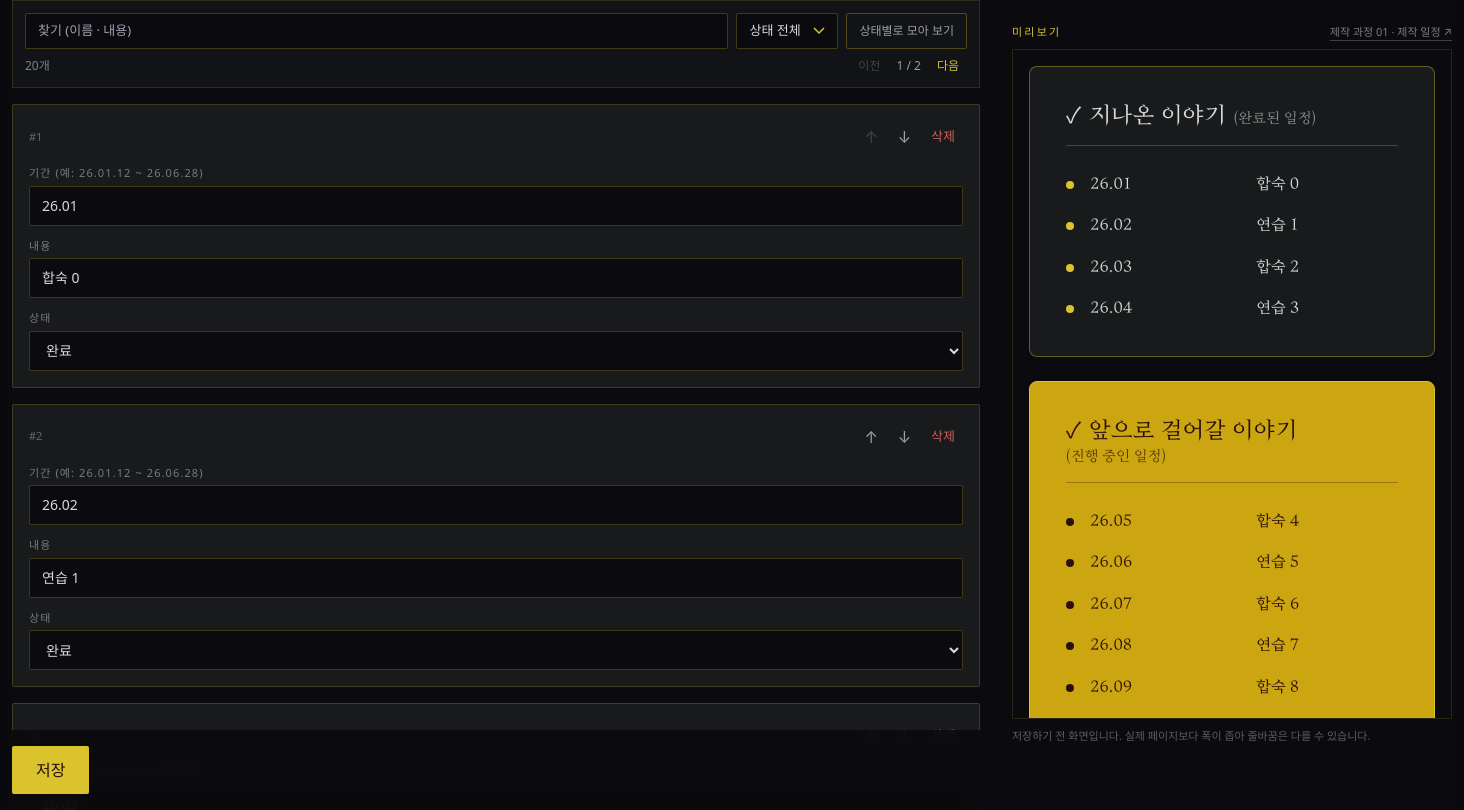
Test: ListEditor — 찾기·거르기·페이지 › 검색어로 거른다
The image size is (1464, 810).
Type "합숙" into the search field. click: (377,31)
box: [25,13,728,49]
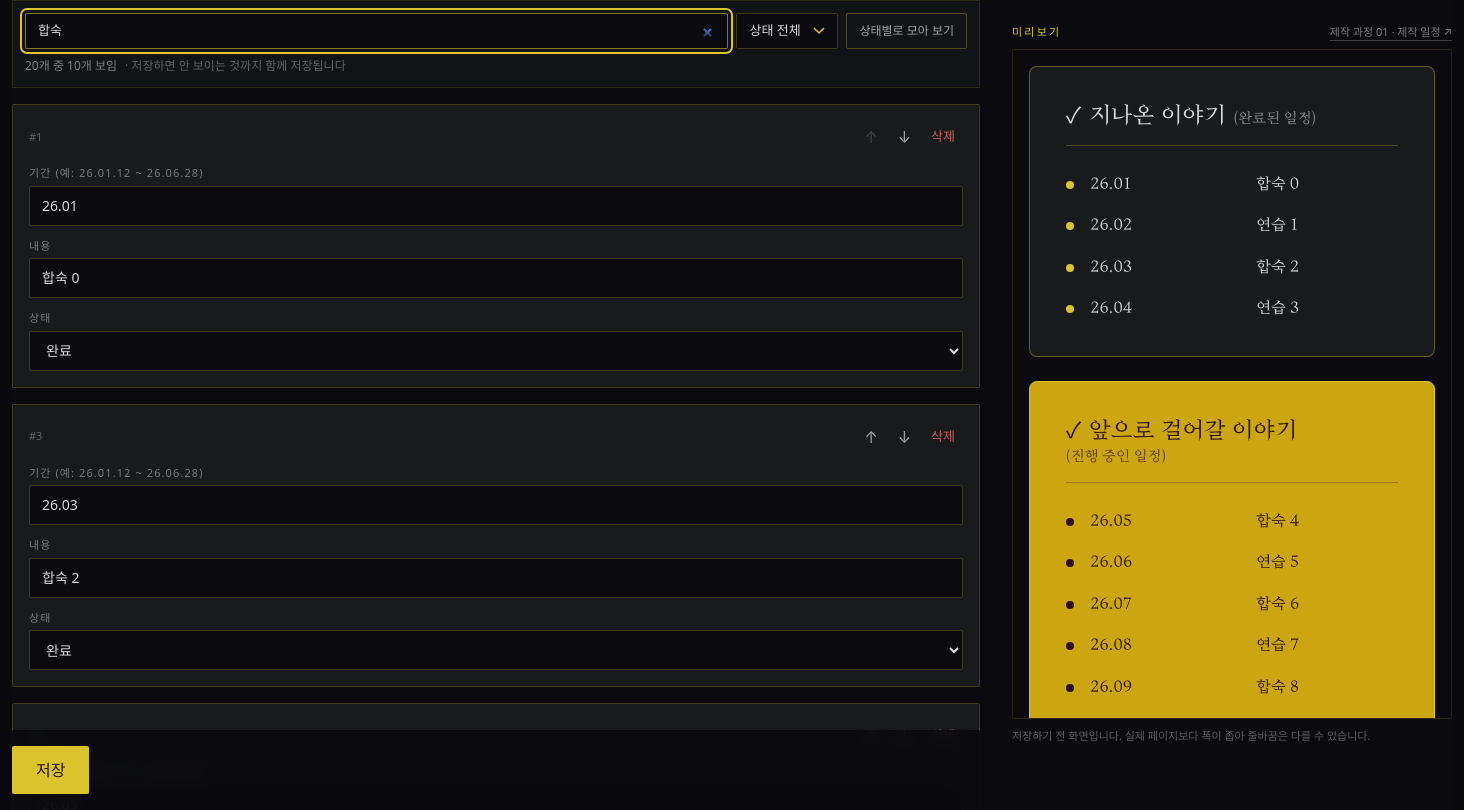
Check: the text "20개 중 10개 보임· 저장하면 안 보이는 것까지 함께 저장됩니다" is shown, box [25,57,346,75]
